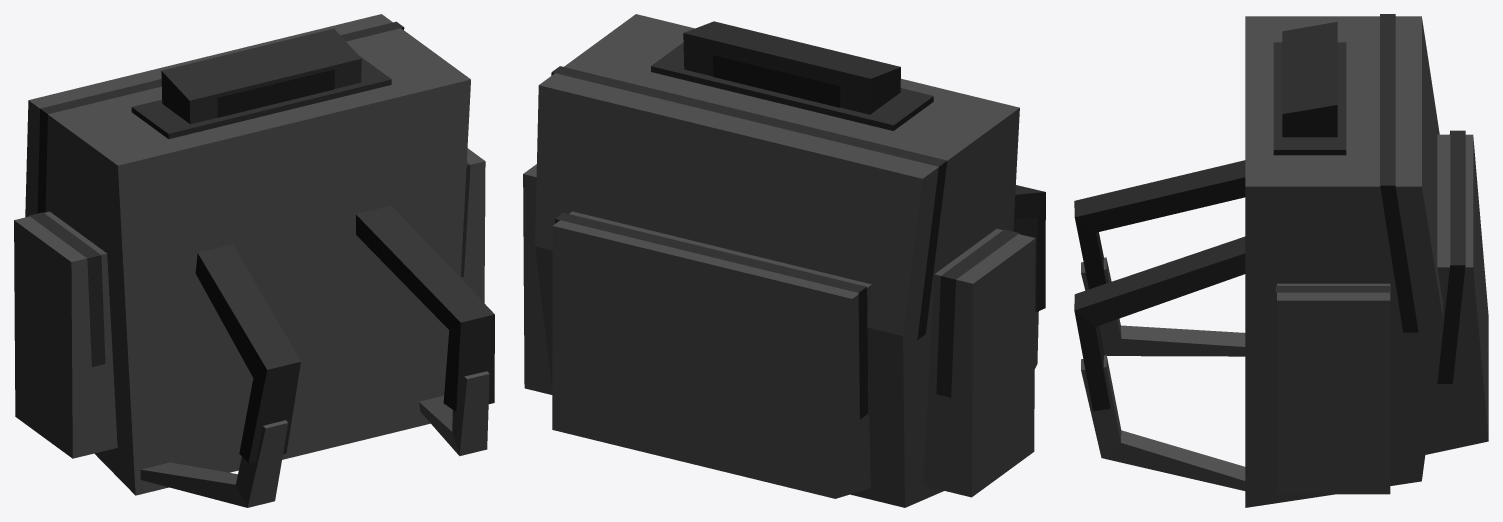
Rendered from Item_Backpack02.FBX.
The picture shows the model from 3 angles, left to right: view 1: azimuth 30°, elevation 25°; view 2: azimuth 150°, elevation 25°; view 3: azimuth 270°, elevation 25°; orthographic projection. The views are drawn at different scales.
Parts seen in each view (by area): view 1: Item_Backpack02; view 2: Item_Backpack02; view 3: Item_Backpack02.
Part boxes in pixels (x1,y1,x2,y2): Item_Backpack02: (14, 14, 494, 507); Item_Backpack02: (523, 14, 1045, 507); Item_Backpack02: (1074, 14, 1488, 507).
Size of the model in its own units: 48.36 by 41.63 by 42.46.
